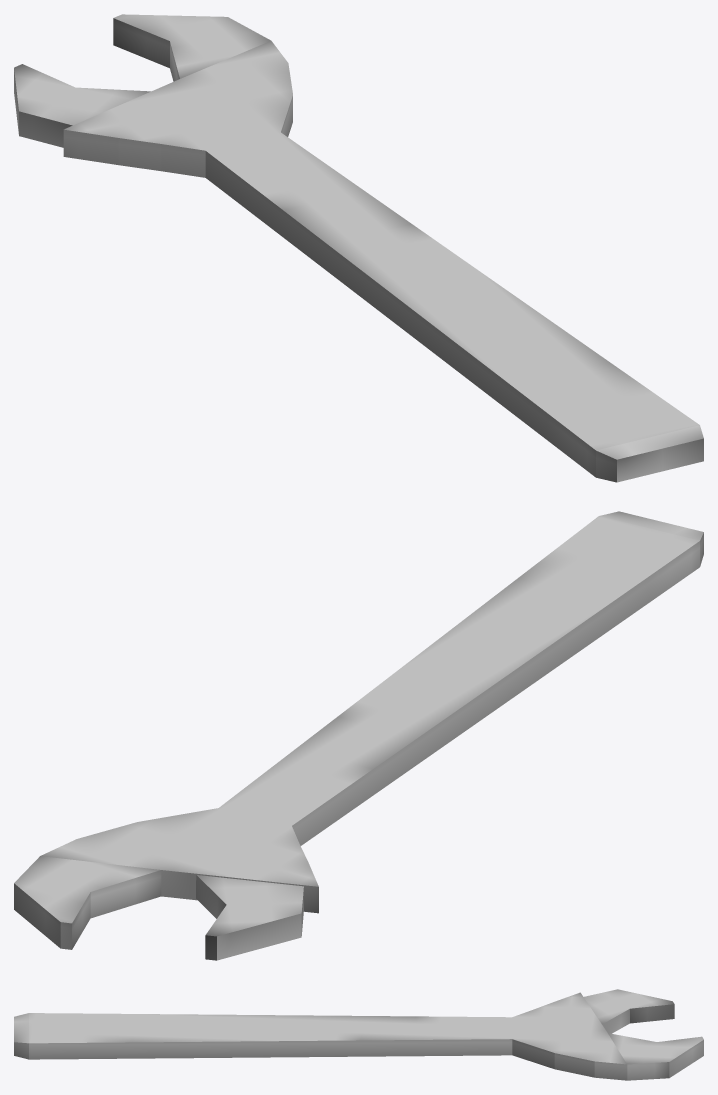
The model's file is Wrench.fbx.
The picture shows the model from 3 angles, top to bottom: view 1: azimuth 30°, elevation 25°; view 2: azimuth 150°, elevation 25°; view 3: azimuth 270°, elevation 25°; orthographic projection. The views are drawn at different scales.
Visible parts, largest first — view 1: Wrench; view 2: Wrench; view 3: Wrench.
Boxes of the visible parts, x1=… form: Wrench: x1=14, y1=14, x2=703, y2=482; Wrench: x1=14, y1=511, x2=703, y2=960; Wrench: x1=14, y1=989, x2=703, y2=1080.
Bounding box in the file's own units: 20.19 × 2.02 × 77.56.
